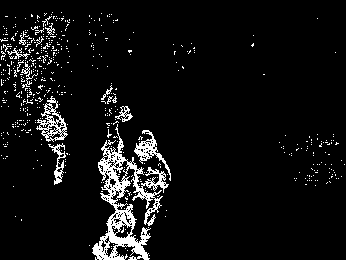person: (137, 132, 178, 233), (37, 94, 77, 185), (94, 134, 138, 215)
